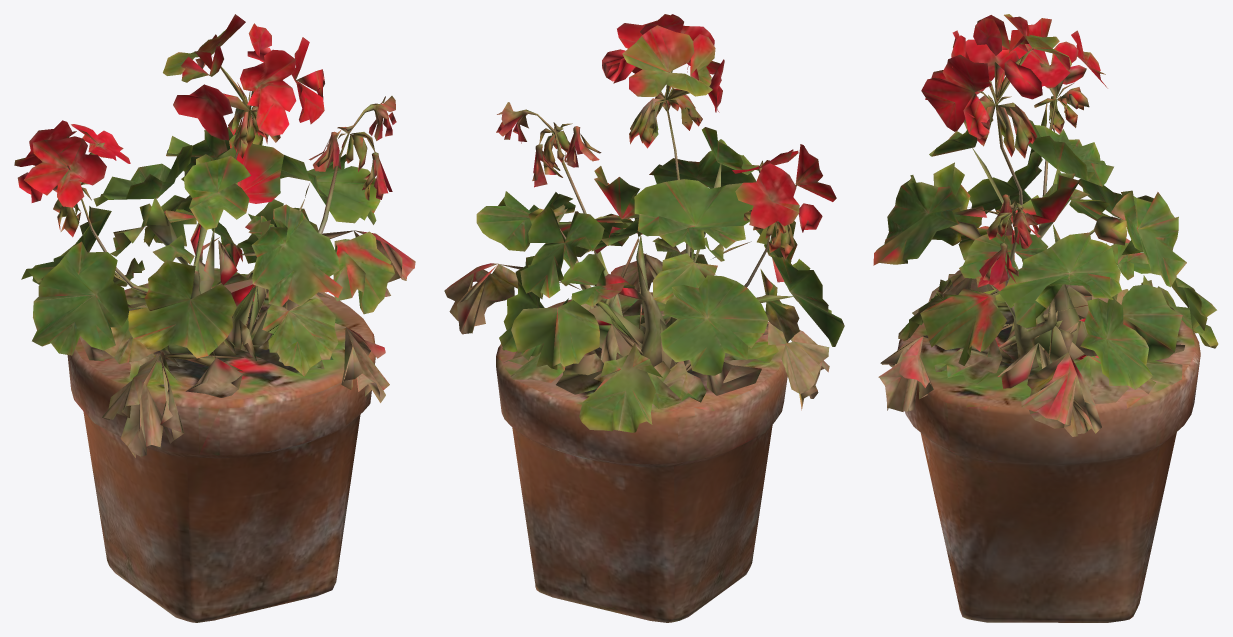
The model's file is skyways-d-gd-pot.glb.
The picture shows the model from 3 angles, left to right: view 1: azimuth 30°, elevation 25°; view 2: azimuth 150°, elevation 25°; view 3: azimuth 270°, elevation 25°; orthographic projection. The views are drawn at different scales.
Parts seen in each view (by area): view 1: skyways-d-gd-pot; view 2: skyways-d-gd-pot; view 3: skyways-d-gd-pot.
Part boxes in pixels (x1,y1,x2,y2): skyways-d-gd-pot: (14, 14, 415, 622); skyways-d-gd-pot: (444, 14, 844, 622); skyways-d-gd-pot: (873, 14, 1218, 622).
Size of the model in its own units: 0.2564 by 0.35 by 0.1919.
1 material, 1 textured.
